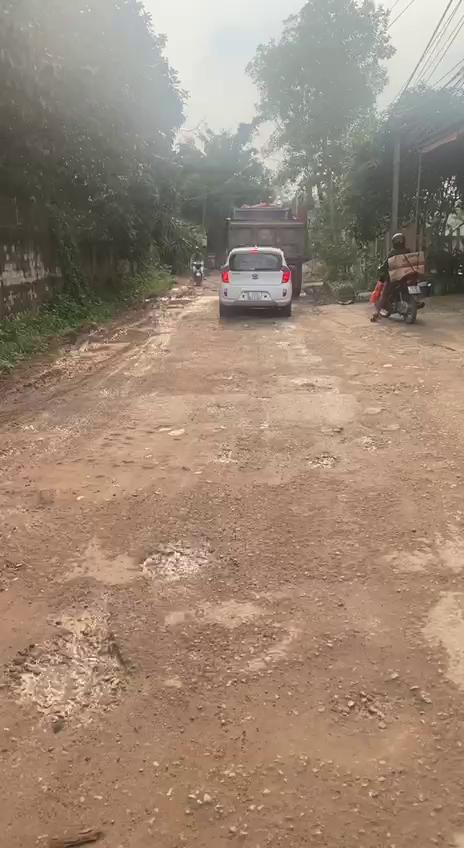pothole: (244, 645, 430, 781), (0, 614, 133, 732), (284, 564, 436, 654), (140, 536, 223, 584), (303, 450, 341, 471), (155, 421, 194, 440), (356, 430, 384, 454)
